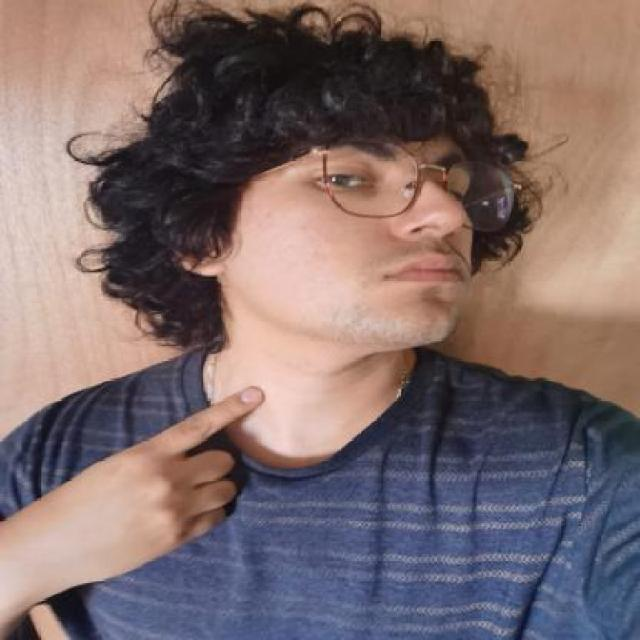Q: (29, 383, 269, 557)
